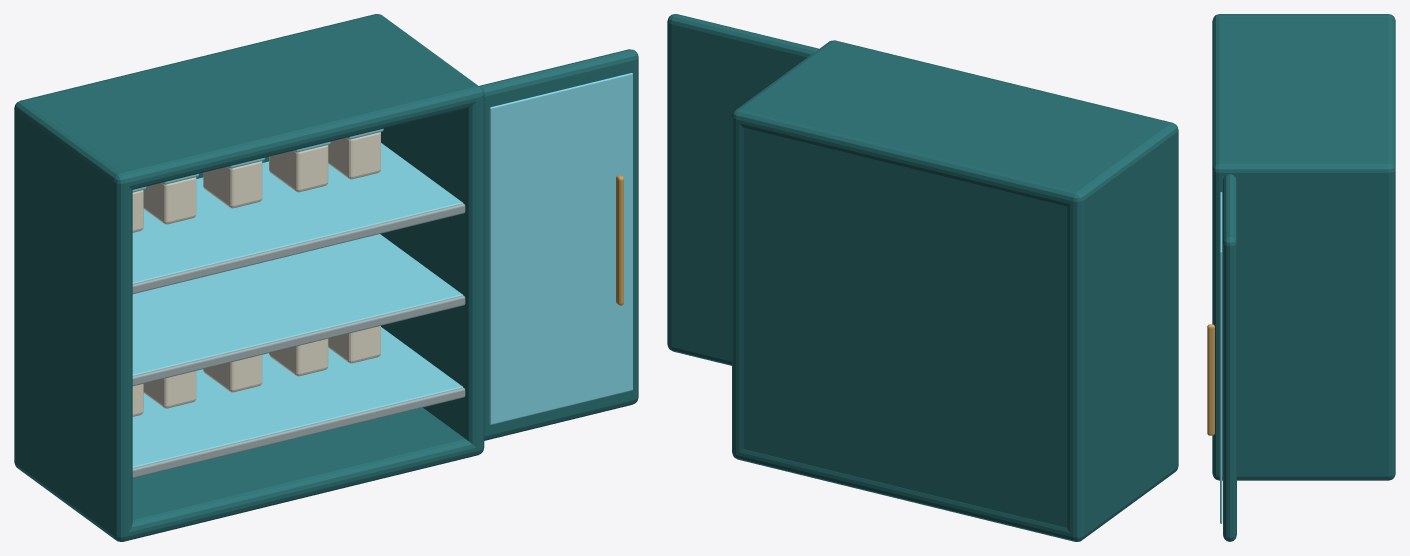
Rendered from FreezerCabinet.glb.
3 renders of one model, left to right at view 1: azimuth 30°, elevation 25°; view 2: azimuth 150°, elevation 25°; view 3: azimuth 270°, elevation 25°, orthographic. The views are drawn at different scales.
Visible parts, largest first — view 1: FrostedDoorPanel, OuterSide, OuterEdge.001, Shelf.001, OuterSide.001, OuterEdge, Shelf.002, Shelf, OpenDoor, ShelfLip.002, ShelfLip, ShelfLip.001 (+9 smaller); view 2: Back, OuterSide, OuterEdge.001, OpenDoor, OuterSide.001, OuterEdge; view 3: OuterSide.001, OuterEdge.001, OpenDoor, FrostedDoorPanel, DoorHandle, OuterSide.
Boxes of the visible parts, x1,y1,x2,y2 form: FrostedDoorPanel: [489, 73, 632, 424]; OuterSide: [14, 100, 132, 541]; OuterEdge.001: [24, 15, 476, 189]; Shelf.001: [132, 234, 463, 375]; OuterSide.001: [372, 14, 484, 455]; OuterEdge: [127, 407, 476, 540]; Shelf.002: [132, 143, 463, 283]; Shelf: [132, 327, 462, 467]; OpenDoor: [479, 49, 638, 440]; ShelfLip.002: [132, 203, 465, 293]; ShelfLip: [132, 387, 465, 478]; ShelfLip.001: [132, 295, 465, 385]; Back: [738, 108, 1085, 536]; OuterSide: [1067, 122, 1178, 541]; OuterEdge.001: [739, 41, 1168, 206]; OpenDoor: [667, 14, 818, 365]; OuterSide.001: [732, 40, 838, 460]; OuterEdge: [739, 449, 1071, 540]; OuterSide.001: [1212, 162, 1395, 480]; OuterEdge.001: [1212, 16, 1395, 167]; OpenDoor: [1223, 174, 1236, 541]; FrostedDoorPanel: [1220, 192, 1222, 523]; DoorHandle: [1207, 324, 1214, 435]; OuterSide: [1212, 14, 1395, 22].
Size of the model in its own units: 12.05 by 8 by 4.32.
